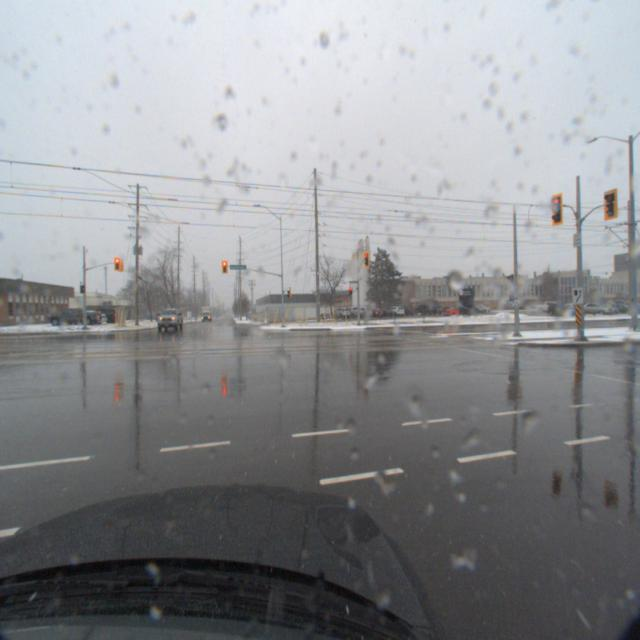Car: (41, 307, 99, 328)
Truck: (153, 309, 181, 332)
